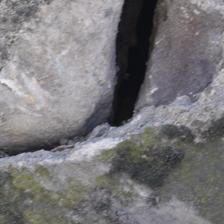Crack: (29, 17, 139, 79), (47, 16, 121, 106), (59, 82, 107, 155)
